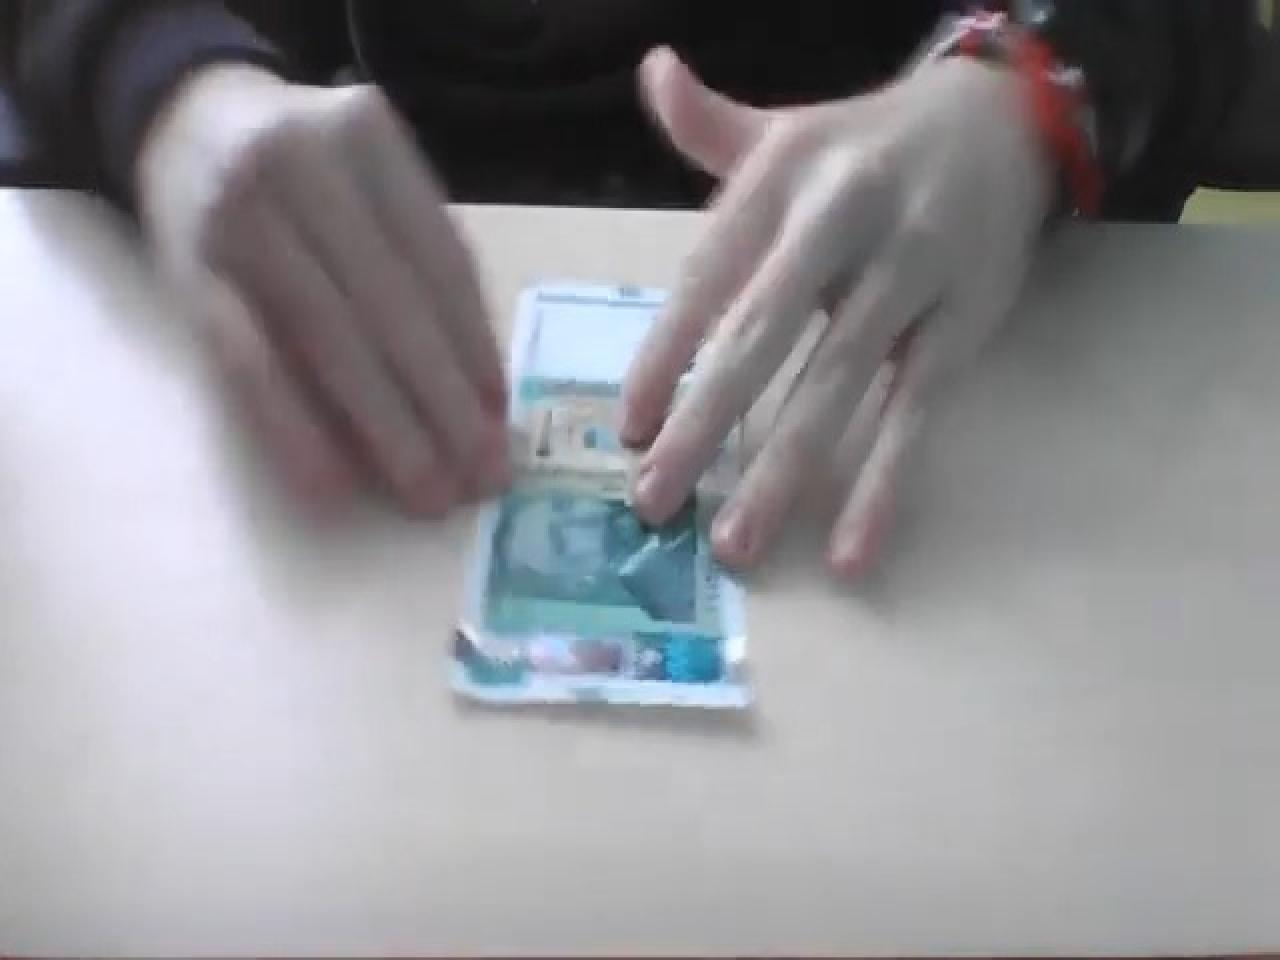100leva: (444, 277, 754, 712)
